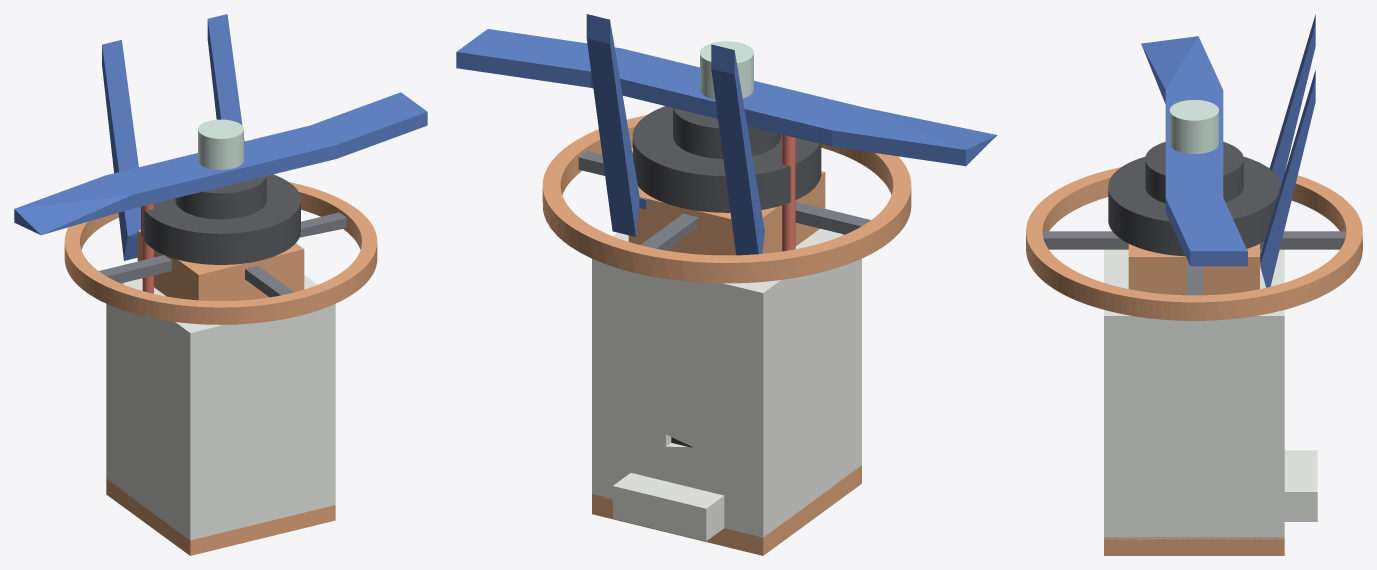
File: gyronino.glb
3 views of the same model, side by side, from view 1: azimuth 30°, elevation 25°; view 2: azimuth 150°, elevation 25°; view 3: azimuth 270°, elevation 25° (orthographic). The views are drawn at different scales.
Visible parts, largest first — view 1: chassis, weapon, gyro_ring, bevel_gear, gyro_block, foot_r, tail_cap, bevel_hub, foot_l, nose_hub, spoke_h, spoke_v (+1 smaller); view 2: chassis, weapon, gyro_ring, bevel_gear, foot_l, foot_r, tail_skid, gyro_block, tail_cap, bevel_hub, spoke_h, nose_hub (+2 smaller); view 3: chassis, gyro_ring, weapon, bevel_gear, gyro_block, tail_cap, foot_l, spoke_v, nose_hub, tail_skid, bevel_hub, foot_r (+1 smaller).
Boxes of the visible parts, x1,y1,x2,y2 form: chassis: (106,275,335,540); weapon: (14,92,427,235); gyro_ring: (64,182,377,324); bevel_gear: (141,174,300,264); gyro_block: (137,229,304,300); foot_r: (102,40,140,260); tail_cap: (106,477,335,555); bevel_hub: (175,176,266,219); foot_l: (207,14,244,141); nose_hub: (198,119,243,169); spoke_h: (99,212,346,283); spoke_v: (245,265,293,297); chassis: (592,228,861,537); weapon: (456,29,997,166); gyro_ring: (542,115,911,283); bevel_gear: (632,106,821,212); foot_l: (586,14,647,236); foot_r: (711,44,764,255); tail_skid: (613,473,724,541); gyro_block: (628,171,825,255); tail_cap: (592,465,861,555); bevel_hub: (673,108,780,158); spoke_h: (578,151,870,234); nose_hub: (700,41,753,99); chassis: (1104,249,1284,539); gyro_ring: (1026,167,1362,320); weapon: (1141,36,1247,266); bevel_gear: (1108,157,1280,256); gyro_block: (1128,244,1259,295); tail_cap: (1104,537,1284,555); foot_l: (1260,70,1315,287); spoke_v: (1042,231,1346,249); nose_hub: (1169,100,1218,153); tail_skid: (1284,450,1317,521); bevel_hub: (1145,142,1243,203); foot_r: (1269,14,1315,185).
Bounding box in the file's own units: 124 × 126 × 82.
